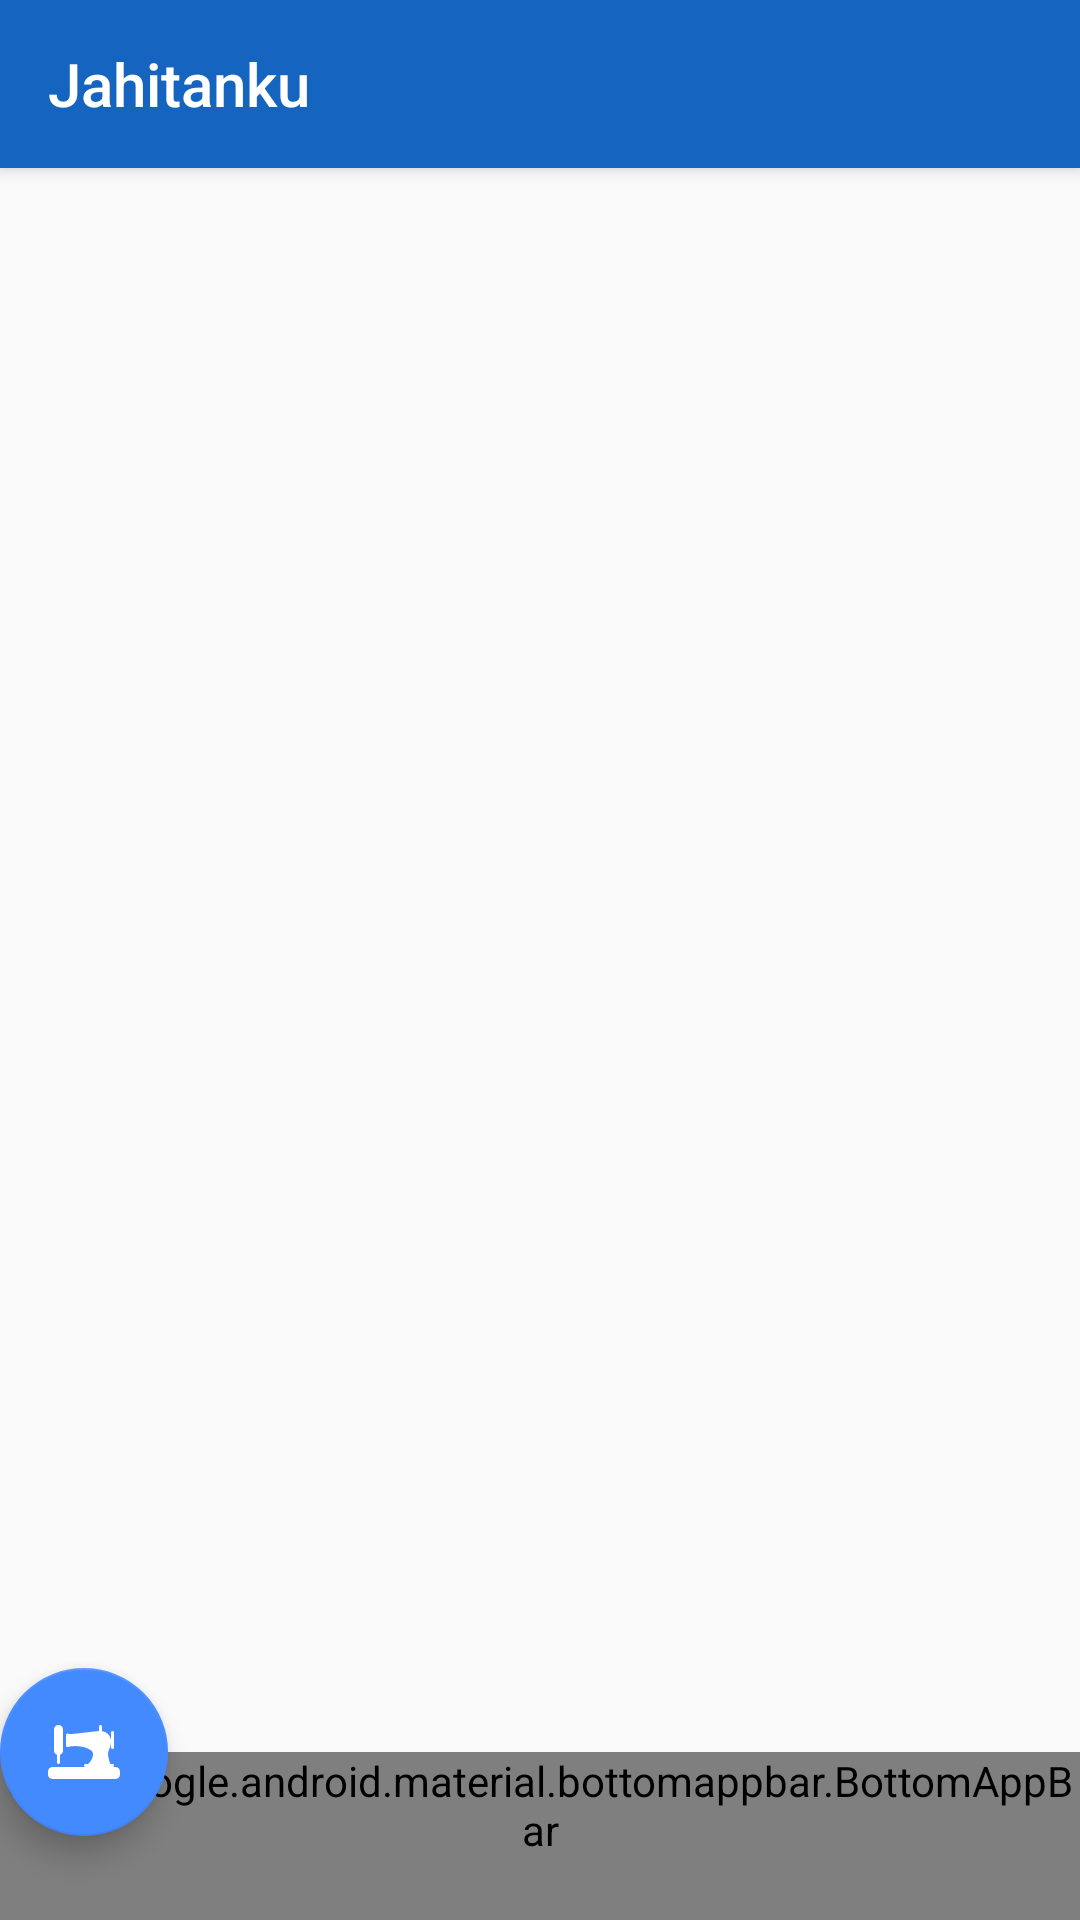

Icon click points for this 1080 × 1920 phone screenshot, format [x,y]:
sewing: [84,1752]
